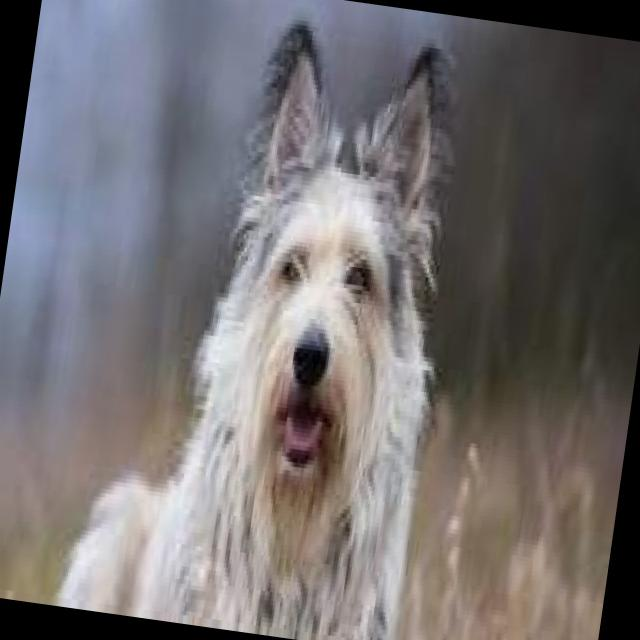Perro: (49, 0, 496, 640)
